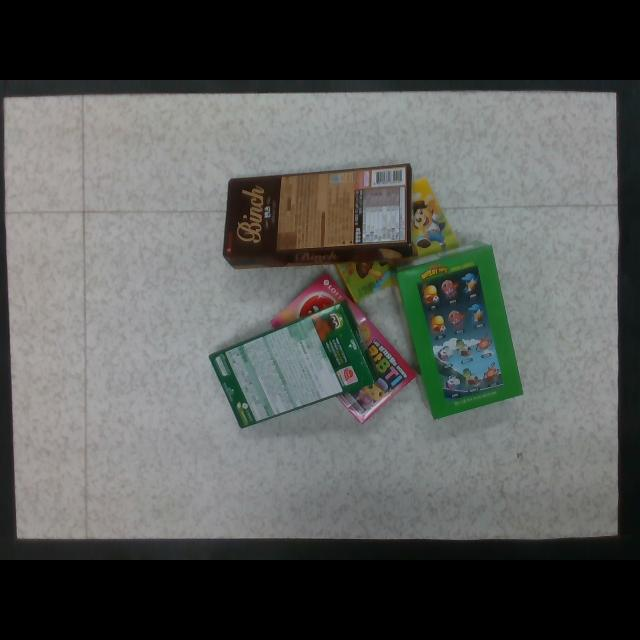box: (388, 241, 524, 420), (271, 271, 419, 425), (207, 299, 380, 429), (222, 164, 416, 270), (316, 179, 468, 303)
